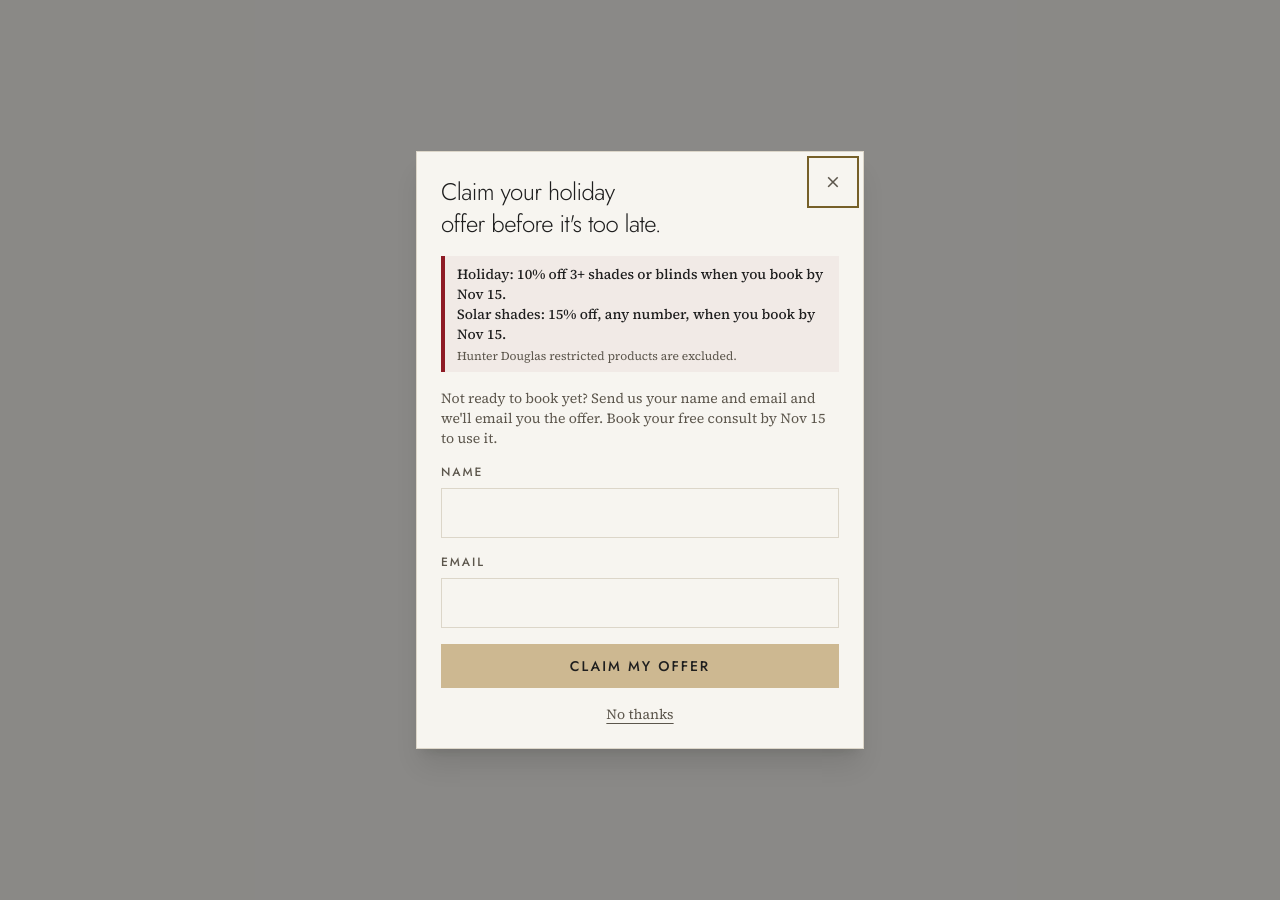
Test: the offer pop-up (owner 2026-10-21) › sends the sign-up, remembers it, counts it apart from leads, and points them to booking
The width and height of the screenshot is (1280, 900).
Type "Dana Reyes" into the field labelled "Name" at (640, 513), box [441,488,839,538]
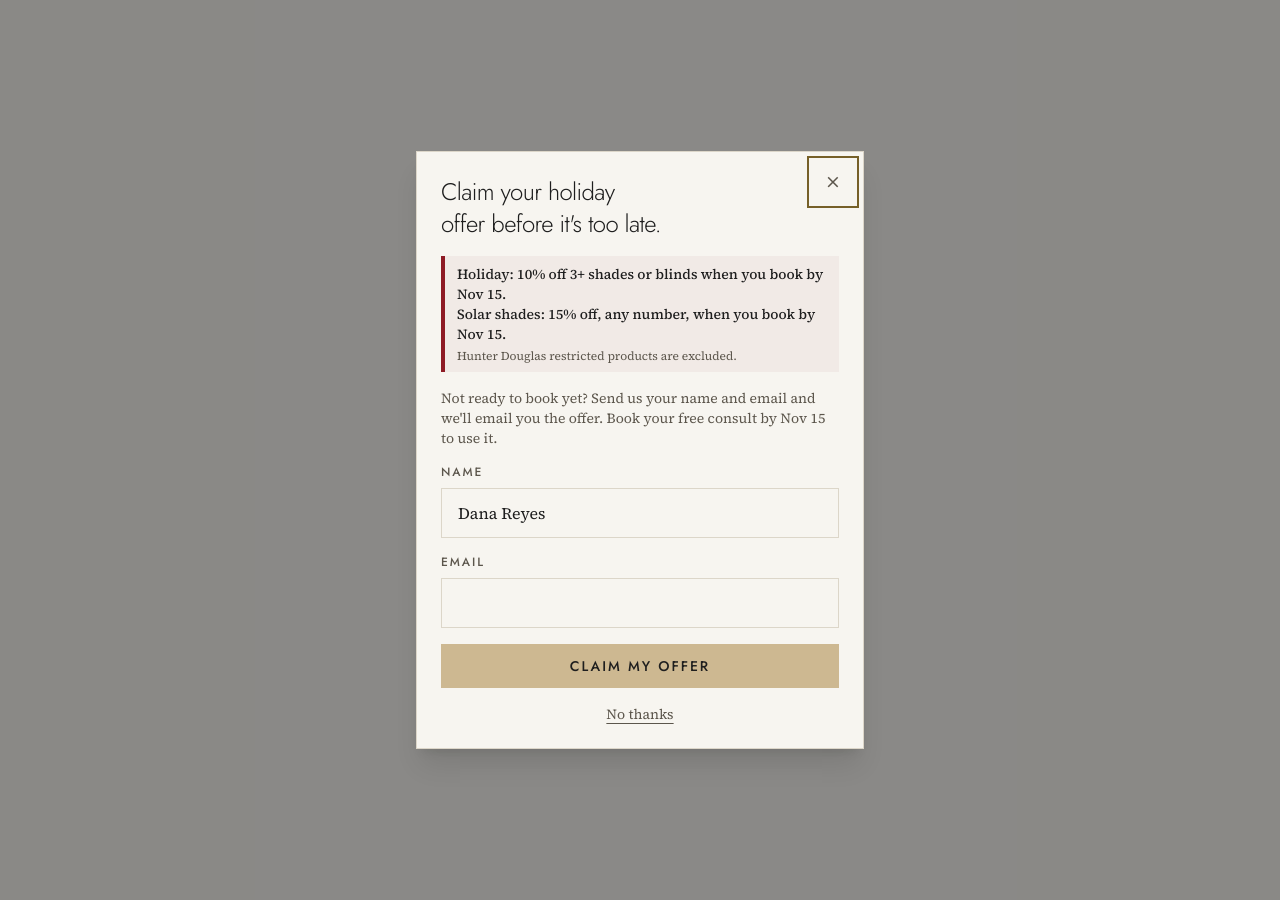
Type "dana@example.com" into the field labelled "Email" at (640, 603), box [441,578,839,628]
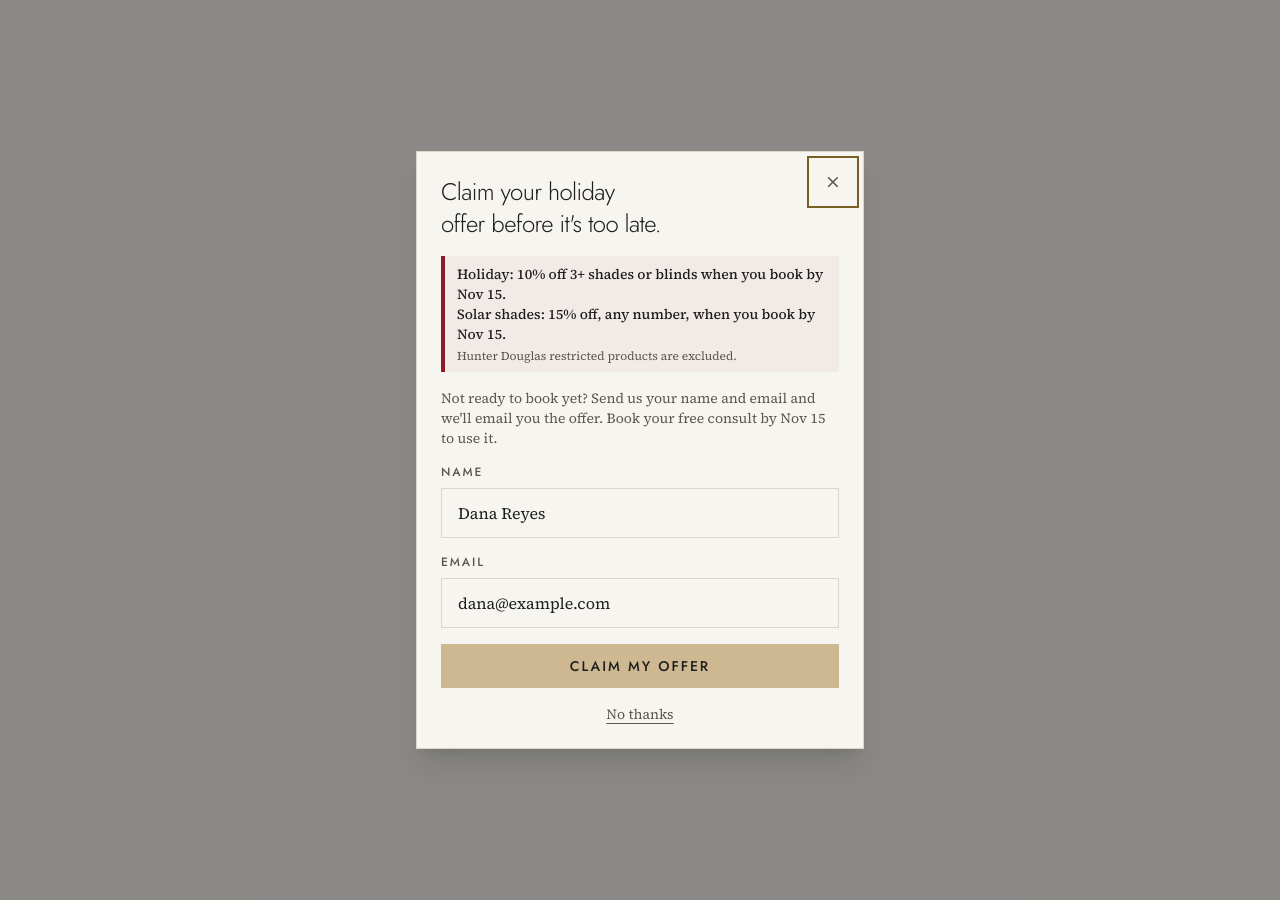
Click the button "Claim my offer" at (640, 666), box [441,644,839,688]
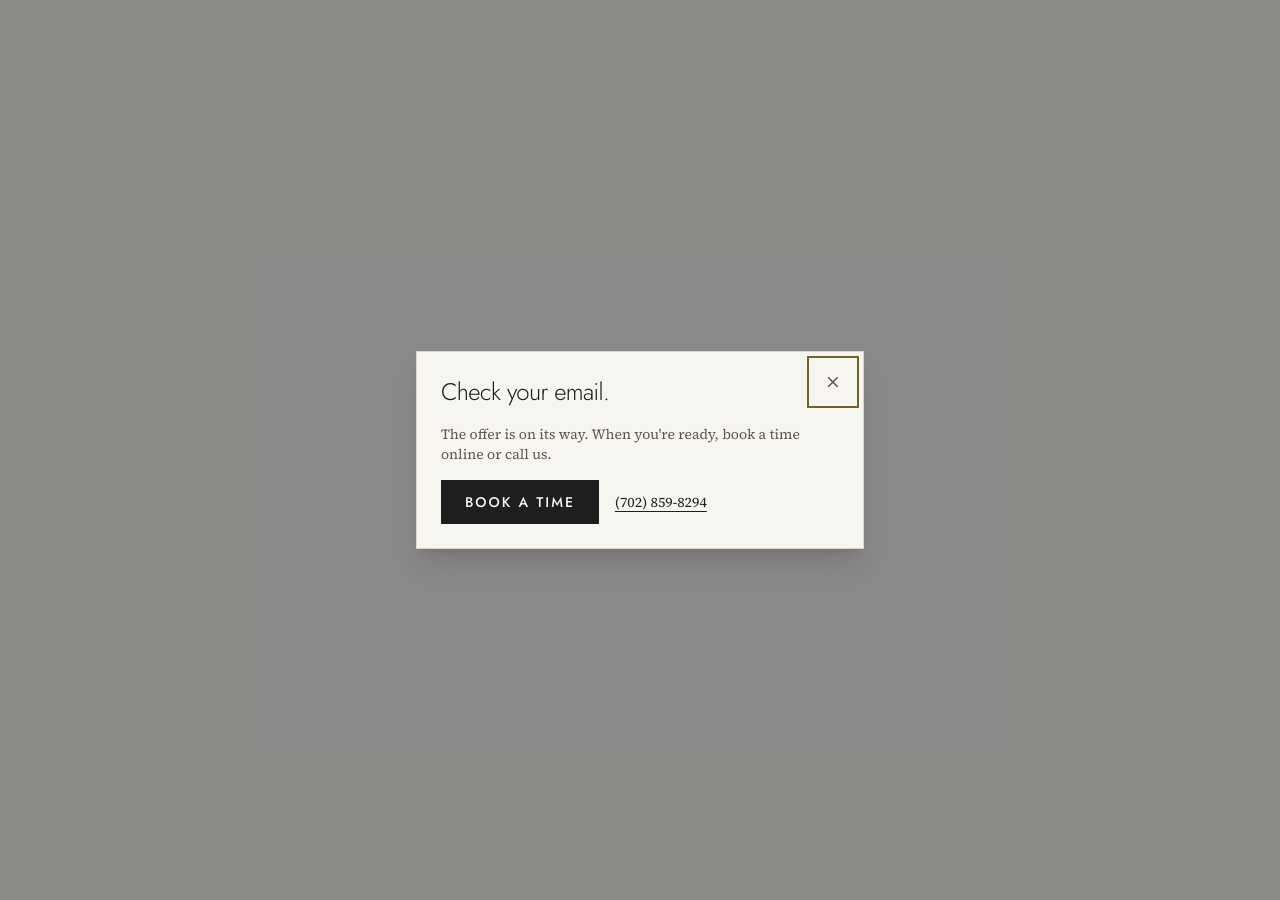
Expected: the heading "Check your email." is shown, [441,374,609,409]
